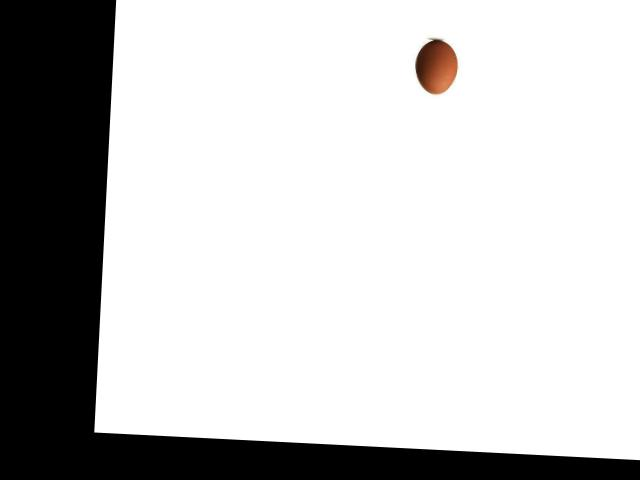egg: (413, 38, 457, 94)
